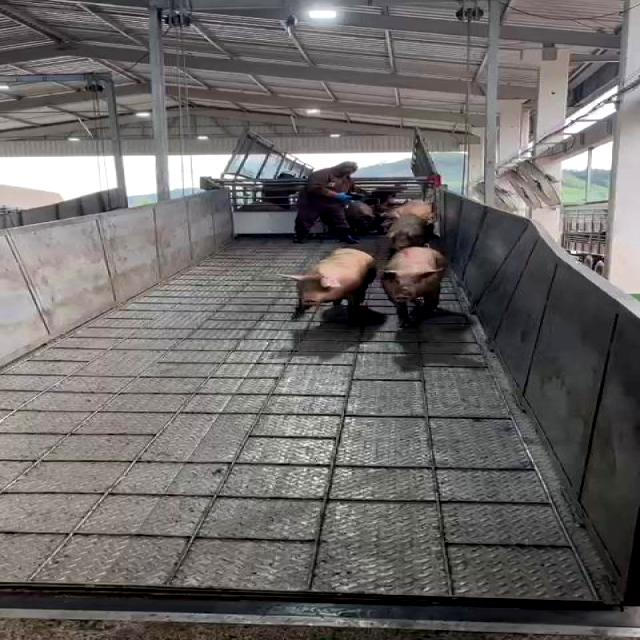pig: (380, 246, 447, 327)
